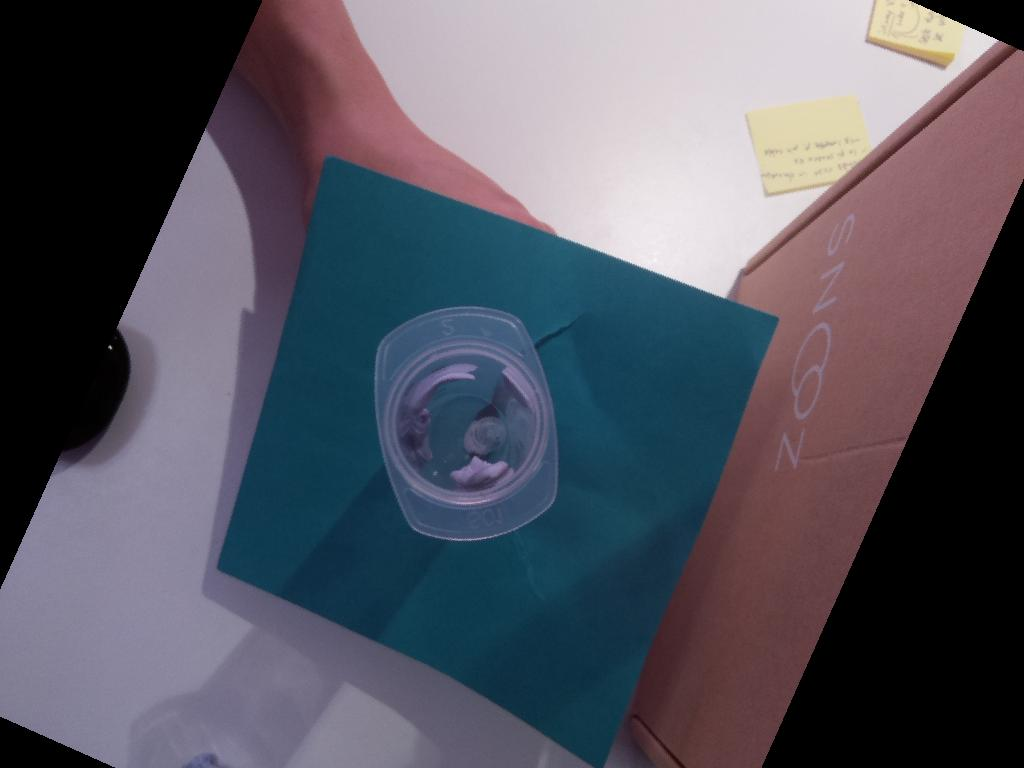dirty: (372, 303, 559, 544)
